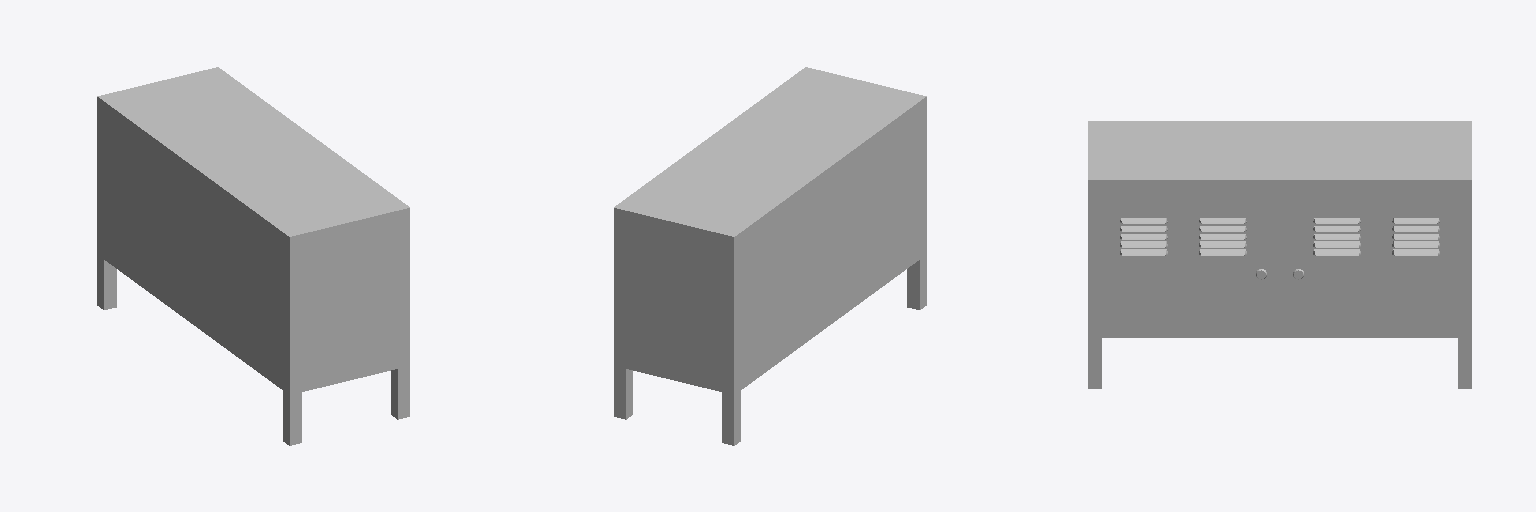
The model's file is Red_Ikea_Cabient.obj.
3 views of the same model, side by side, from view 1: azimuth 30°, elevation 25°; view 2: azimuth 150°, elevation 25°; view 3: azimuth 270°, elevation 25° (orthographic).
Parts seen in each view (by area): view 1: Cube; view 2: Cube; view 3: Cube, door.
Boxes of the visible parts, box(x1,y1,x2,y2) form: Cube: box(97, 67, 409, 445); Cube: box(614, 67, 926, 445); Cube: box(1088, 121, 1471, 388); door: box(1120, 218, 1439, 279).
Bounding box in the file's own units: 2.07 × 3.3 × 5.51.